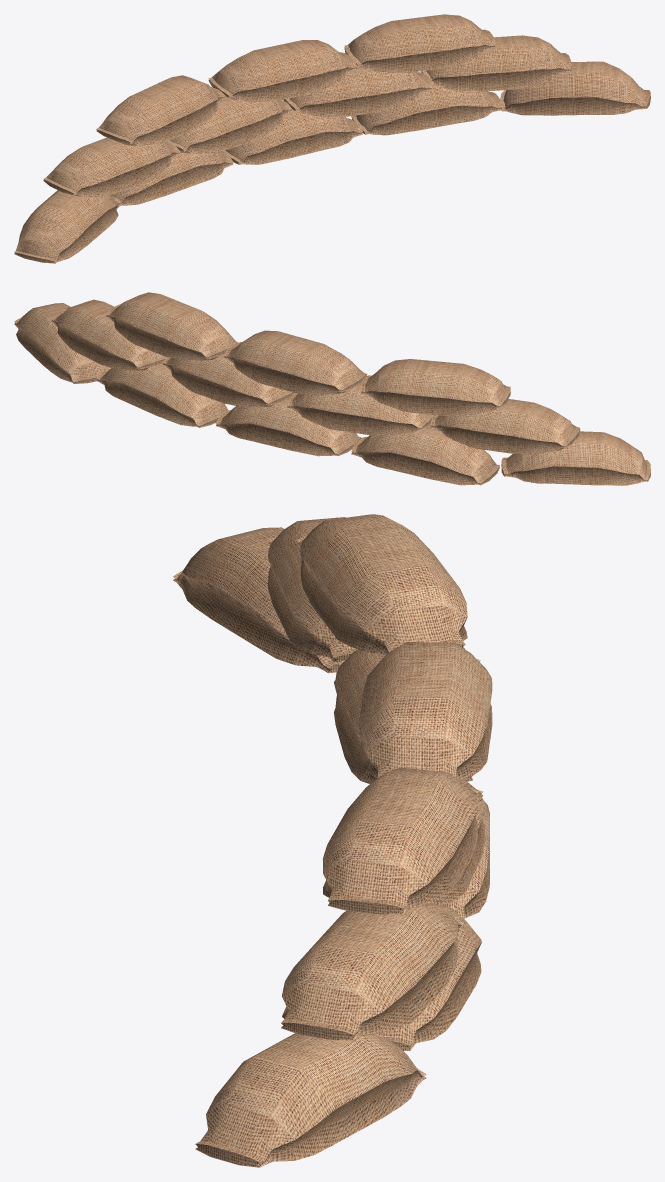
Rendered from Sandbags.fbx.
3 renders of one model, top to bottom at view 1: azimuth 30°, elevation 25°; view 2: azimuth 150°, elevation 25°; view 3: azimuth 270°, elevation 25°, orthographic. The views are drawn at different scales.
Visible parts, largest first — view 1: Sandbags; view 2: Sandbags; view 3: Sandbags.
Boxes of the visible parts, left/top/right/bottom form: Sandbags: left=14, top=14, right=650, bottom=263; Sandbags: left=14, top=292, right=650, bottom=485; Sandbags: left=173, top=514, right=492, bottom=1167.
Size of the model in its own units: 5.68 by 1.24 by 0.8594.
